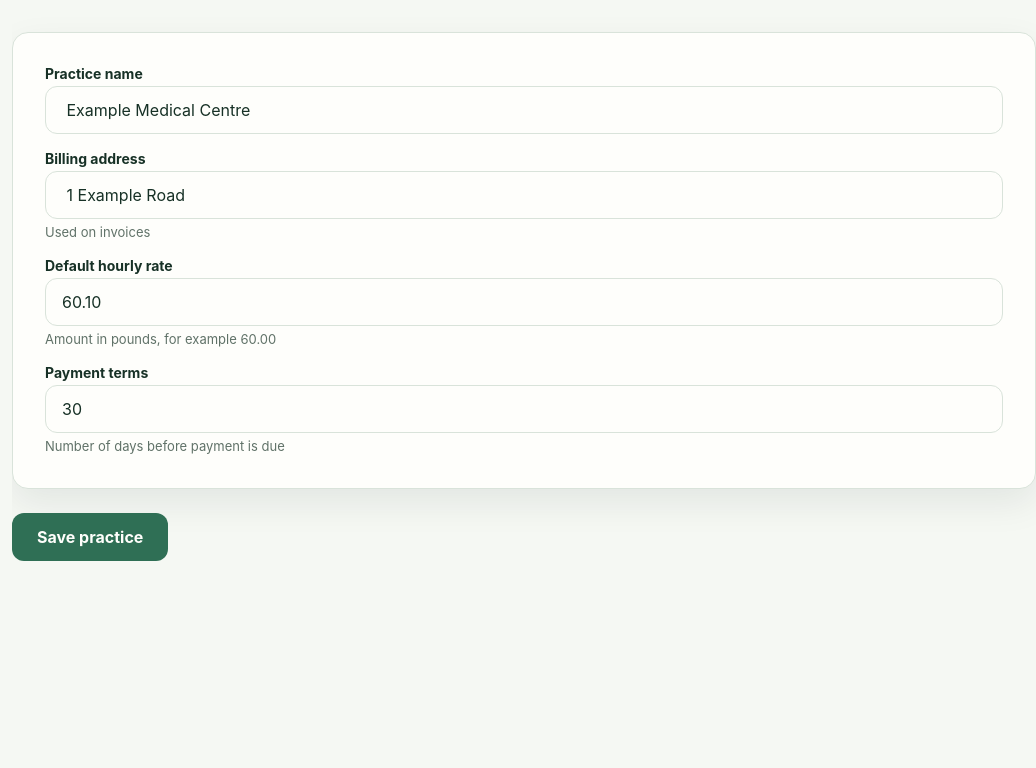
PracticeForm › preserves entries while hiding storage error details
Step 1. Click the button "Save practice" → x=90, y=537, box x1=12 y1=513 x2=168 y2=561
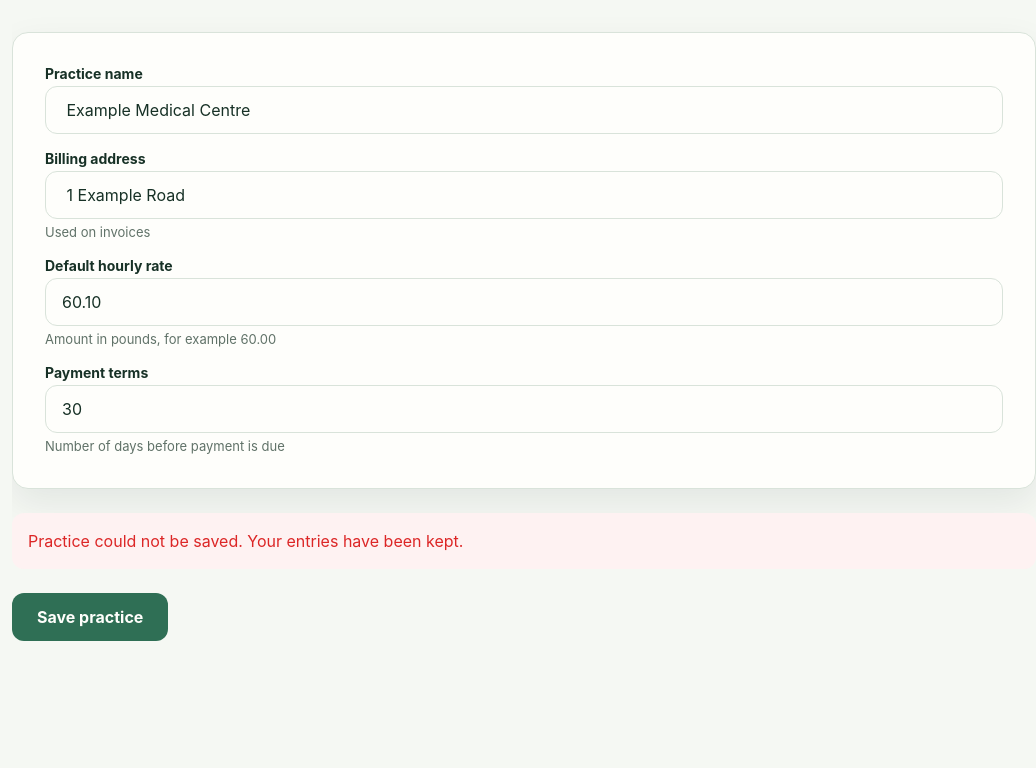
Expected: the field labelled "Practice name" holds " Example Medical Centre ", x1=45 y1=86 x2=1003 y2=134
Expected: the message reads "Practice could not be saved. Your entries have been kept.", x1=28 y1=531 x2=463 y2=551
